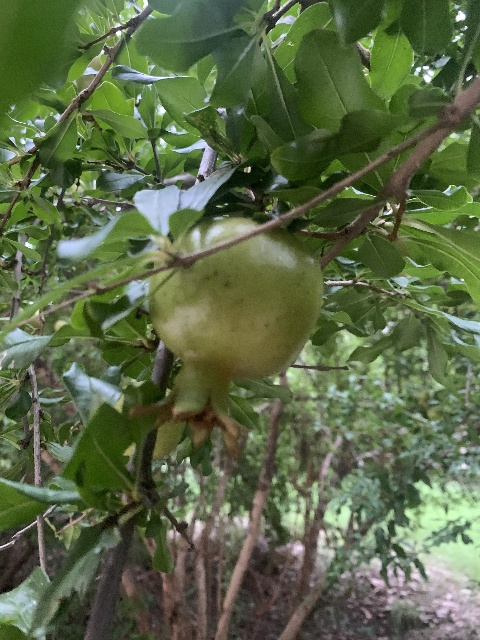mid-growth: (132, 216, 324, 458)
